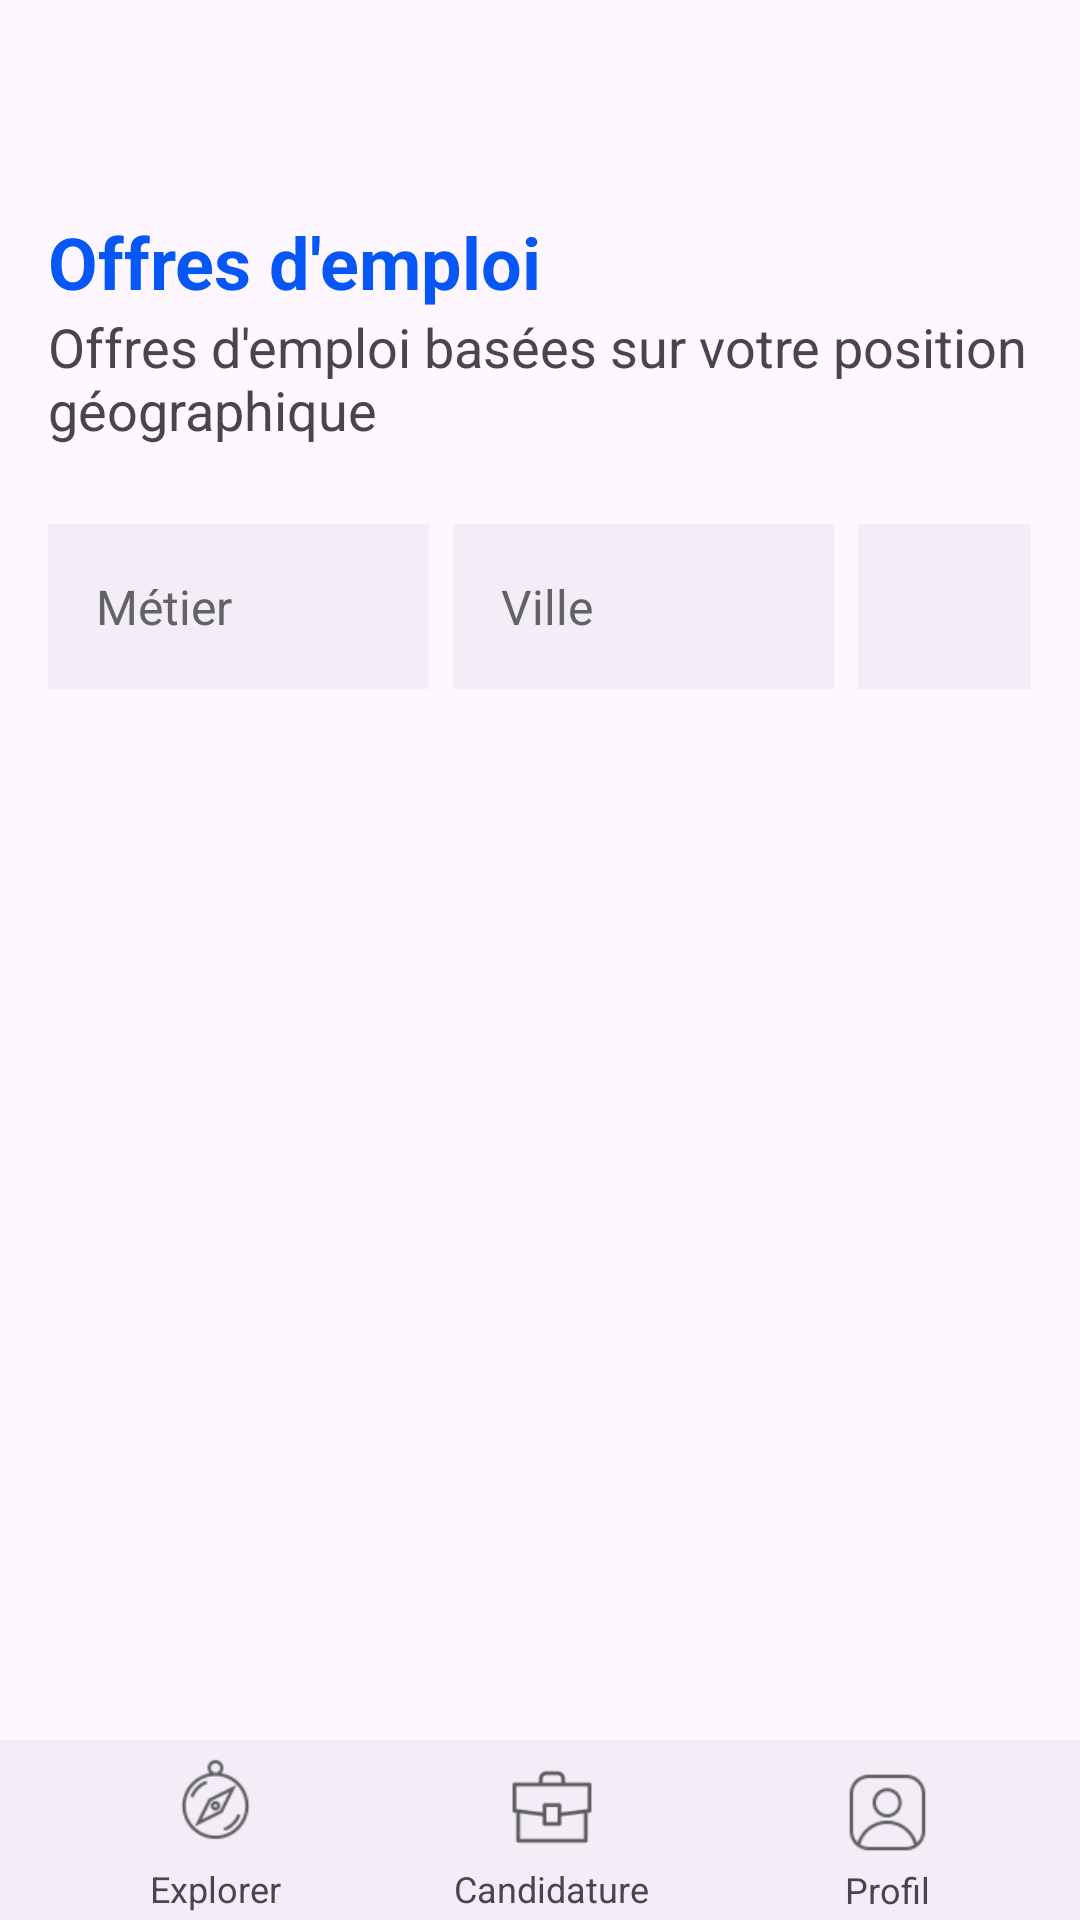

Screen size 1080px×1920px. Icon name, then its box in pixels as (x1, y1, x2, y2):
compass: (182, 1760, 249, 1839)
user: (849, 1774, 926, 1851)
